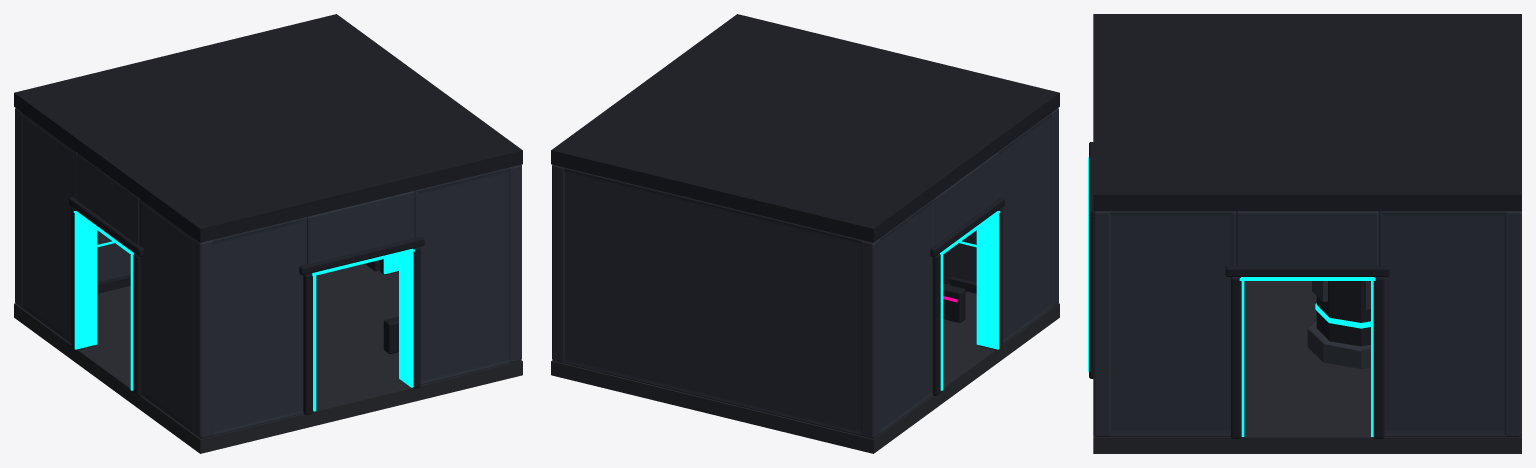
Rendered from Mod_Hallway_TJunction.fbx.
The picture shows the model from 3 angles, left to right: view 1: azimuth 30°, elevation 25°; view 2: azimuth 150°, elevation 25°; view 3: azimuth 270°, elevation 25°; orthographic projection. The views are drawn at different scales.
Visible parts, largest first — view 1: Mod_Hallway_TJunction__DarkMetal, Mod_Hallway_TJunction__SteelPanel, Mod_Hallway_TJunction__ConcreteFloor, Mod_Hallway_TJunction__NeonCyan; view 2: Mod_Hallway_TJunction__SteelPanel, Mod_Hallway_TJunction__DarkMetal, Mod_Hallway_TJunction__ConcreteFloor, Mod_Hallway_TJunction__NeonCyan; view 3: Mod_Hallway_TJunction__DarkMetal, Mod_Hallway_TJunction__SteelPanel, Mod_Hallway_TJunction__ConcreteFloor, Mod_Hallway_TJunction__NeonCyan.
Boxes of the visible parts, x1,y1,x2,y2 form: Mod_Hallway_TJunction__DarkMetal: [14, 14, 522, 414]; Mod_Hallway_TJunction__SteelPanel: [15, 108, 521, 438]; Mod_Hallway_TJunction__ConcreteFloor: [14, 264, 522, 453]; Mod_Hallway_TJunction__NeonCyan: [73, 211, 414, 411]; Mod_Hallway_TJunction__SteelPanel: [552, 108, 1058, 438]; Mod_Hallway_TJunction__DarkMetal: [551, 14, 1059, 395]; Mod_Hallway_TJunction__ConcreteFloor: [551, 283, 1059, 453]; Mod_Hallway_TJunction__NeonCyan: [940, 211, 1000, 390]; Mod_Hallway_TJunction__DarkMetal: [1089, 14, 1521, 438]; Mod_Hallway_TJunction__SteelPanel: [1093, 211, 1521, 436]; Mod_Hallway_TJunction__ConcreteFloor: [1093, 281, 1521, 453]; Mod_Hallway_TJunction__NeonCyan: [1088, 157, 1375, 436].
Bounding box in the file's own units: 24.6 × 16 × 24.3.
